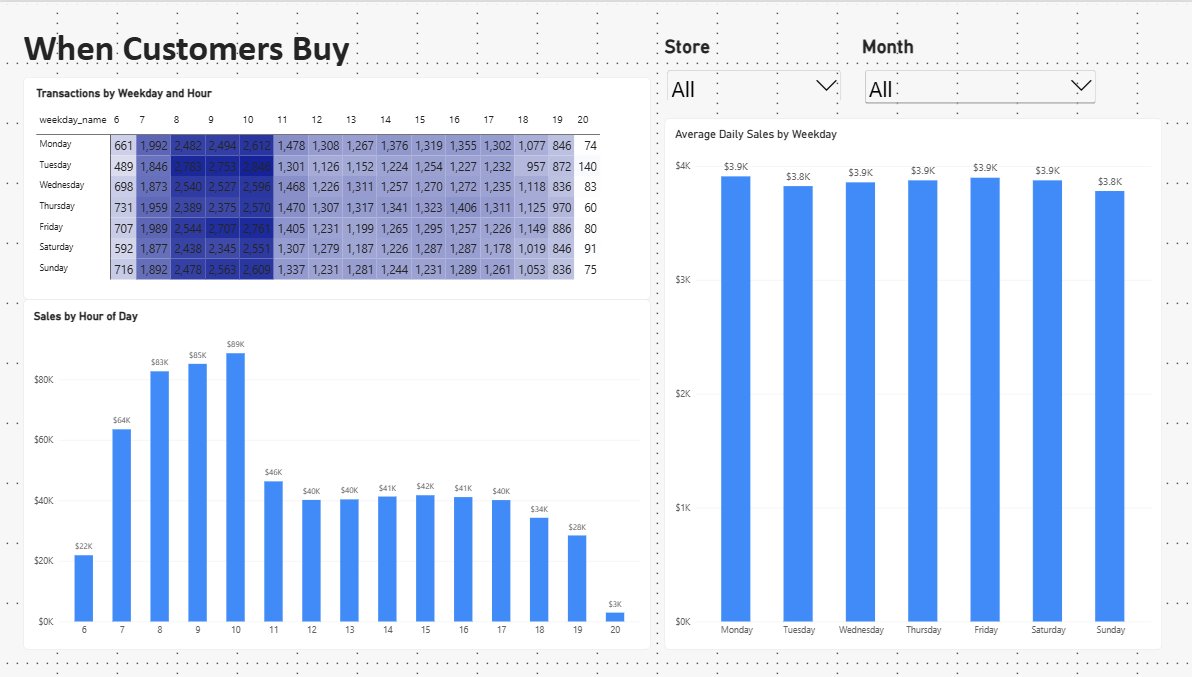

The page's visual inventory and layout, read from the dashboard file:
{"tool":"powerbi","page":{"name":"Time","canvas":[1920,1080],"ordinal":2},"visuals":[{"type":"slicer","title":"Store","fields":{"Values":["dim_store.store_location"]},"box":[1068,54,286.7,103.3],"z":0},{"type":"slicer","title":"Month","fields":{"Values":["dim_date.month_name"]},"box":[1384,54,378.3,131.7],"z":1},{"type":"pivotTable","title":"Transactions by Weekday and Hour","fields":{"Columns":["fact_sales.hour_of_day"],"Rows":["dim_date.weekday_name"],"Values":["_Measure.Transactions"]},"box":[42,120,1004,356],"z":2},{"type":"clusteredColumnChart","title":"Sales by Hour of Day","fields":{"Category":["fact_sales.hour_of_day"],"Y":["_Measure.Total Sales"]},"box":[42,476,1004,560],"z":3},{"type":"clusteredColumnChart","title":"Average Daily Sales by Weekday","fields":{"Category":["dim_date.weekday_name"],"Y":["_Measure.Sales per Trading Day"]},"box":[1068,186,796,850],"z":4},{"type":"textbox","box":[42,36,610,84],"z":5}]}

Visuals, with their boxes in screenshot pixels (x1, y1, x2, y2), scaled from the page's 1920x1080 canvas onto the 1192x677 screenshot:
"Store" slicer: bbox=(663, 34, 841, 99)
"Month" slicer: bbox=(859, 34, 1094, 116)
"Transactions by Weekday and Hour" pivotTable: bbox=(26, 75, 649, 298)
"Sales by Hour of Day" clusteredColumnChart: bbox=(26, 298, 649, 649)
"Average Daily Sales by Weekday" clusteredColumnChart: bbox=(663, 117, 1157, 649)
textbox: bbox=(26, 23, 405, 75)
